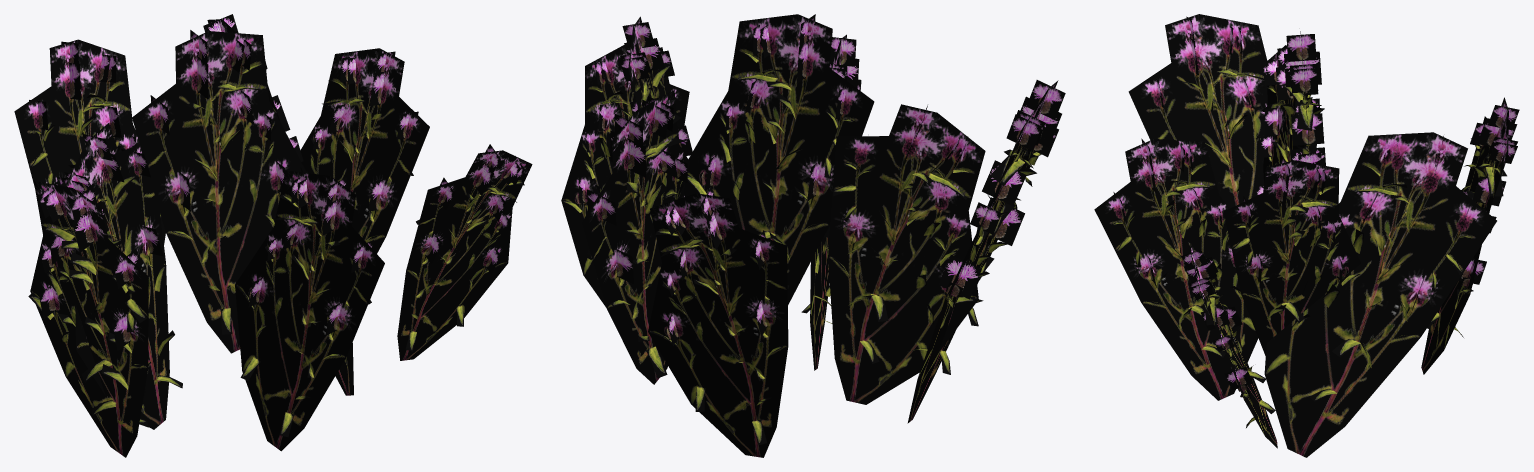
File: 04_centaurea_jacea_Low_001.fbx
3 views of the same model, side by side, from view 1: azimuth 30°, elevation 25°; view 2: azimuth 150°, elevation 25°; view 3: azimuth 270°, elevation 25° (orthographic). The views are drawn at different scales.
Visible parts, largest first — view 1: 04_centaurea_jacea_Low.001; view 2: 04_centaurea_jacea_Low.001; view 3: 04_centaurea_jacea_Low.001.
Boxes of the visible parts, x1=… form: 04_centaurea_jacea_Low.001: x1=14, y1=14, x2=532, y2=457; 04_centaurea_jacea_Low.001: x1=561, y1=14, x2=1065, y2=457; 04_centaurea_jacea_Low.001: x1=1094, y1=14, x2=1519, y2=457.
Bounding box in the file's own units: 0.2189 × 0.1767 × 0.1894.
